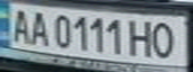0: (51, 11, 72, 50)
1: (103, 16, 127, 55), (69, 12, 90, 51), (87, 15, 106, 53)
A: (24, 8, 51, 47), (6, 6, 33, 44)
H: (127, 17, 157, 57)
O: (148, 19, 181, 61)
